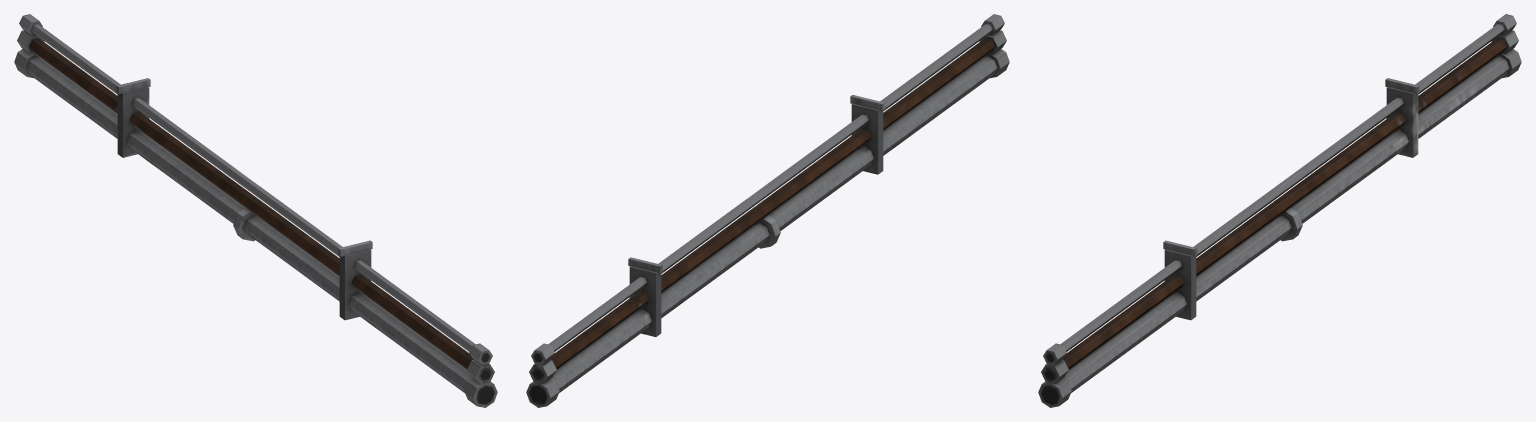
Rendered from nodexeus-set-run-pipe.glb.
3 views of the same model, side by side, from view 1: azimuth 30°, elevation 25°; view 2: azimuth 150°, elevation 25°; view 3: azimuth 330°, elevation 25° (orthographic).
Parts seen in each view (by area): view 1: set-run-pipe; view 2: set-run-pipe; view 3: set-run-pipe.
Boxes of the visible parts, <box> form: set-run-pipe: <box>14,14,497,407</box>; set-run-pipe: <box>526,14,1009,407</box>; set-run-pipe: <box>1038,14,1521,407</box>.
Bounding box in the file's own units: 0.24 × 0.51 × 6.
Materials: 1 (1 with a texture image).
